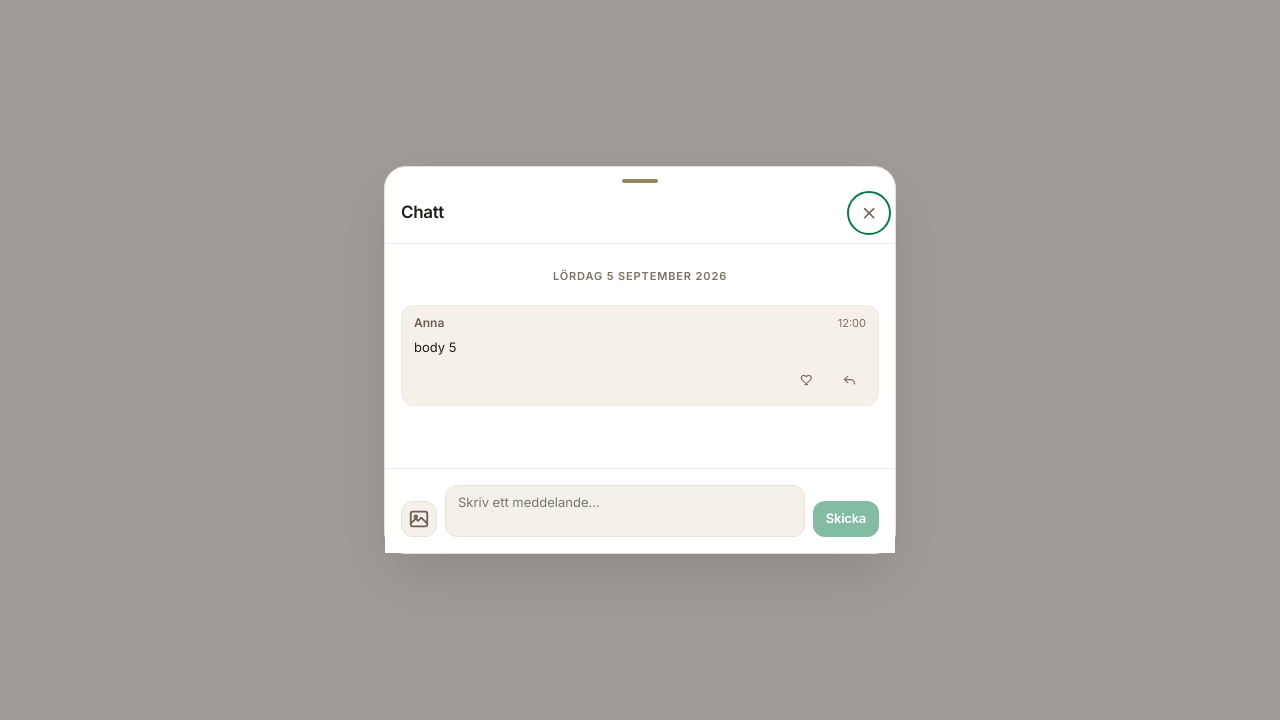
Test: ChatPanel — reply composer mode + quoted replies (Task G) › arming a reply via the Svara button shows the composer strip with the target sender
Click the button named "Svara på Annas meddelande".
click(849, 380)  # box top-left (832, 363), bottom-right (866, 397)
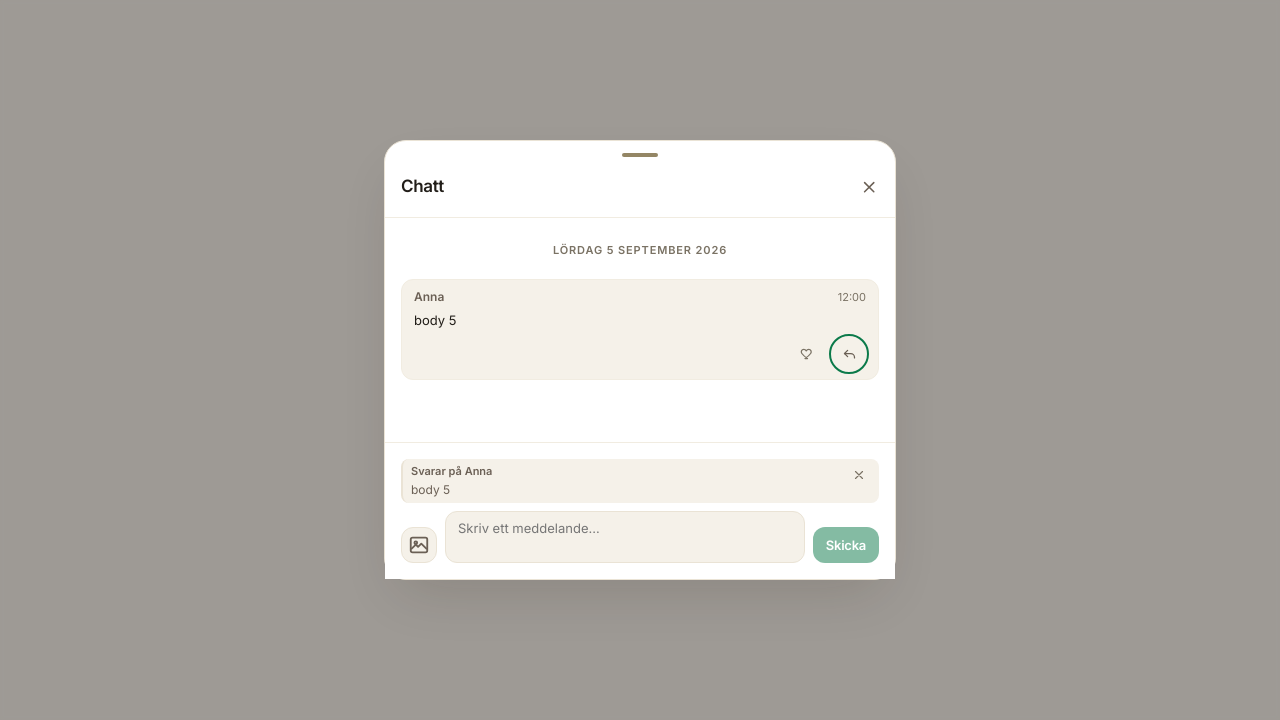
Now the text "Svarar på Anna" is shown, box top-left (411, 464), bottom-right (492, 478)
